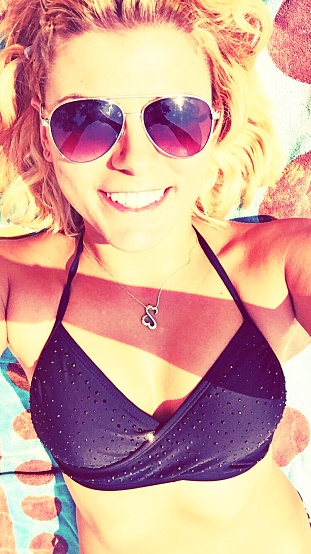deitado: (0, 0, 311, 482)
